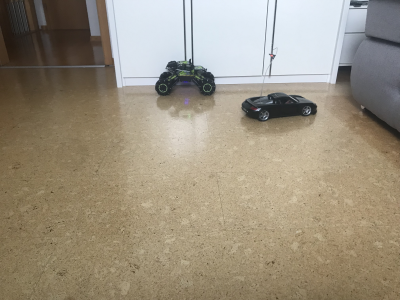remote control car: (154, 58, 219, 96)
